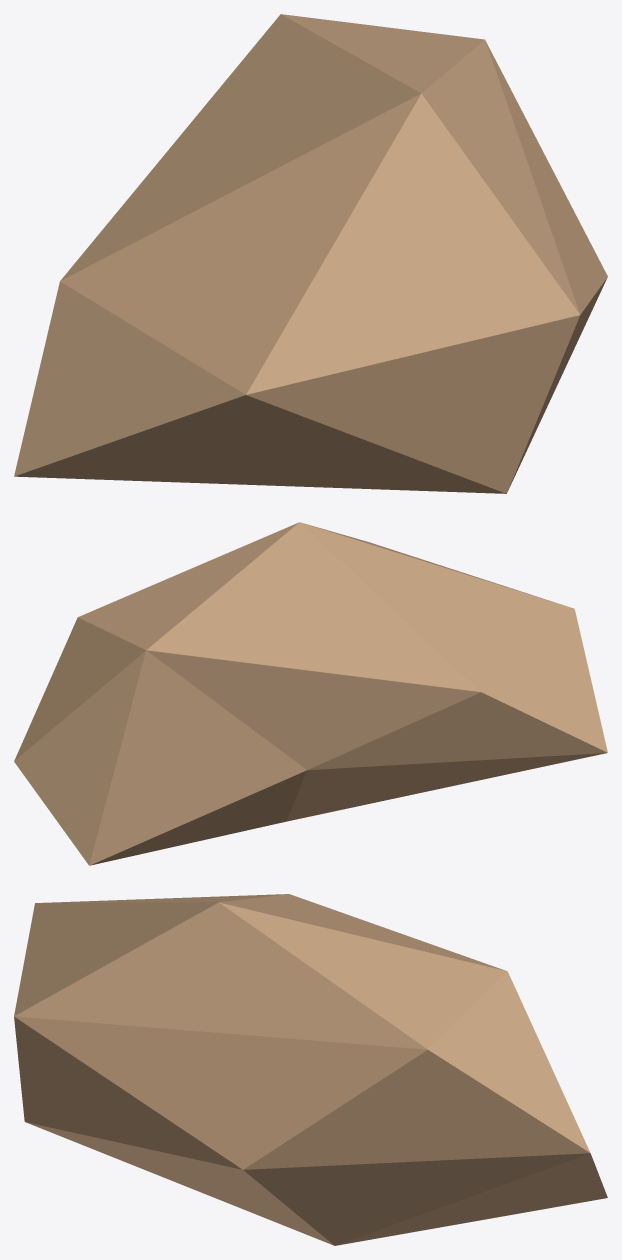
Rendered from Stone_6.fbx.
3 renders of one model, top to bottom at view 1: azimuth 30°, elevation 25°; view 2: azimuth 150°, elevation 25°; view 3: azimuth 270°, elevation 25°, orthographic. The views are drawn at different scales.
Visible parts, largest first — view 1: Stone_6; view 2: Stone_6; view 3: Stone_6.
Boxes of the visible parts, <box> form: Stone_6: <box>14,14,607,493</box>; Stone_6: <box>14,522,607,865</box>; Stone_6: <box>14,894,607,1245</box>.
Size of the model in its own units: 319 by 178 by 330.
